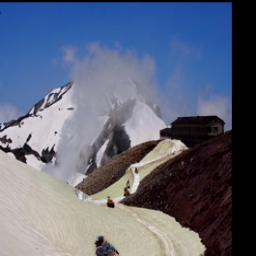Swallow: (95, 236, 130, 256)
